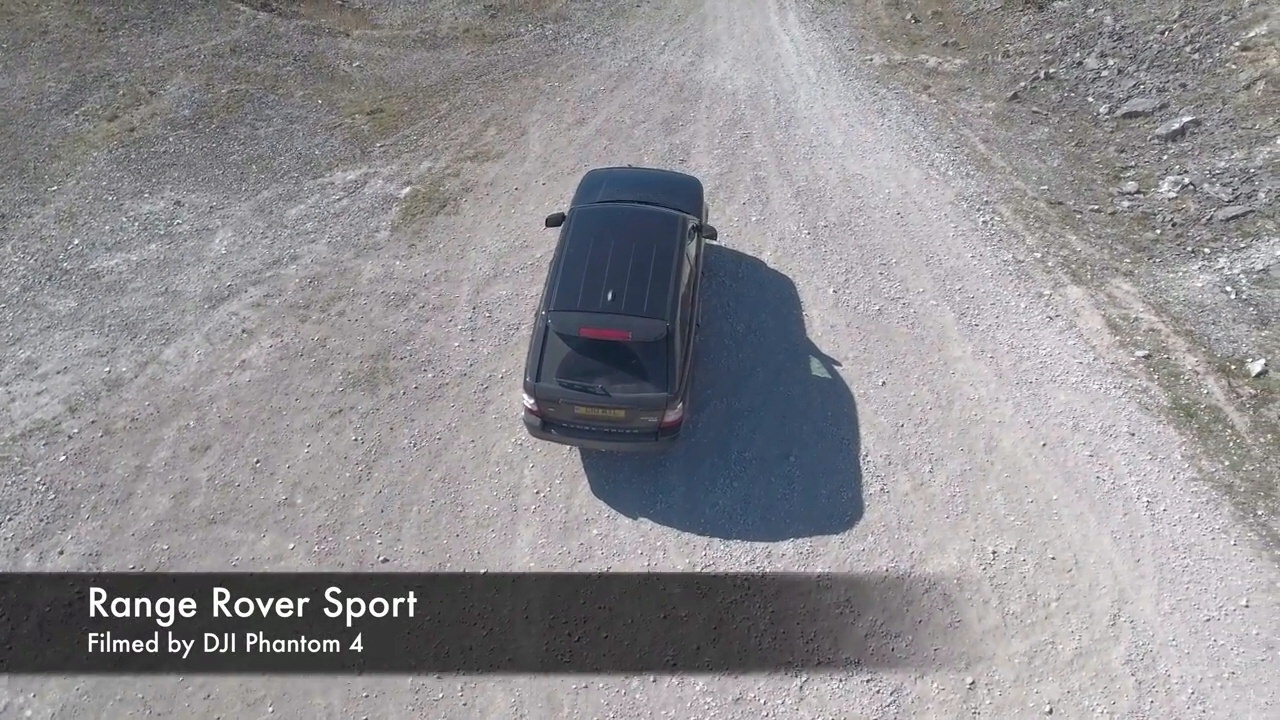araba: (516, 165, 720, 451)
